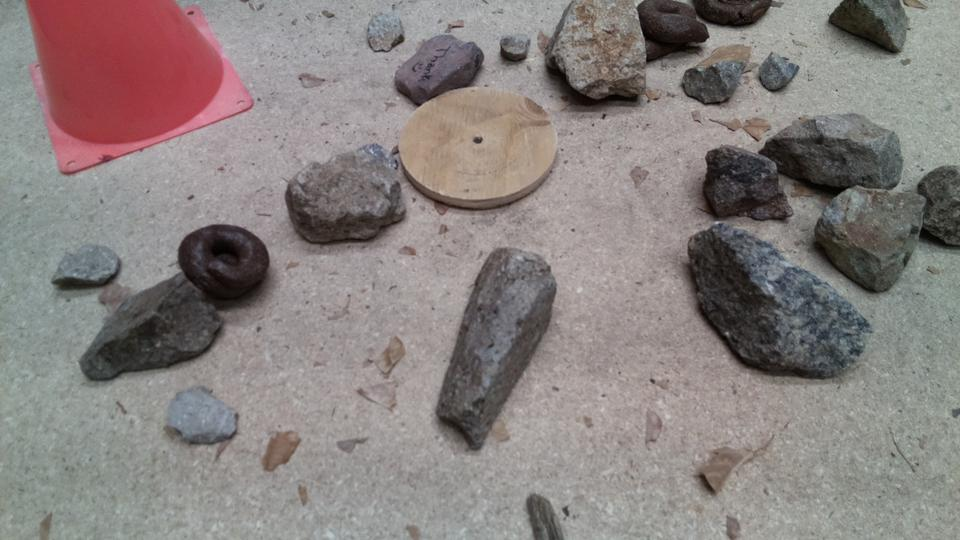poop: (177, 223, 271, 303), (636, 1, 712, 63), (693, 1, 777, 30)
